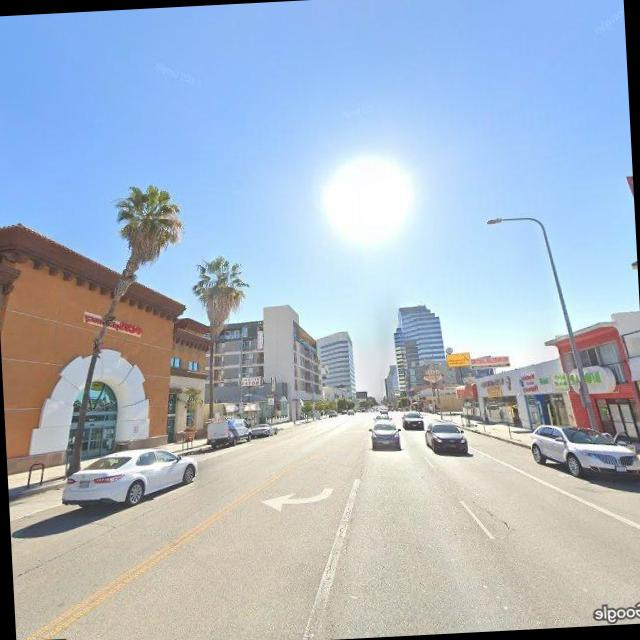pothole: (476, 496, 518, 539)
